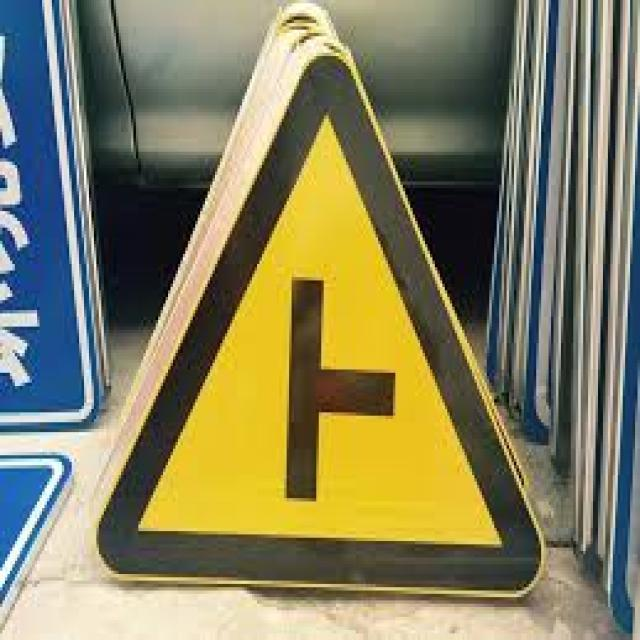side road right: (91, 42, 542, 598)
